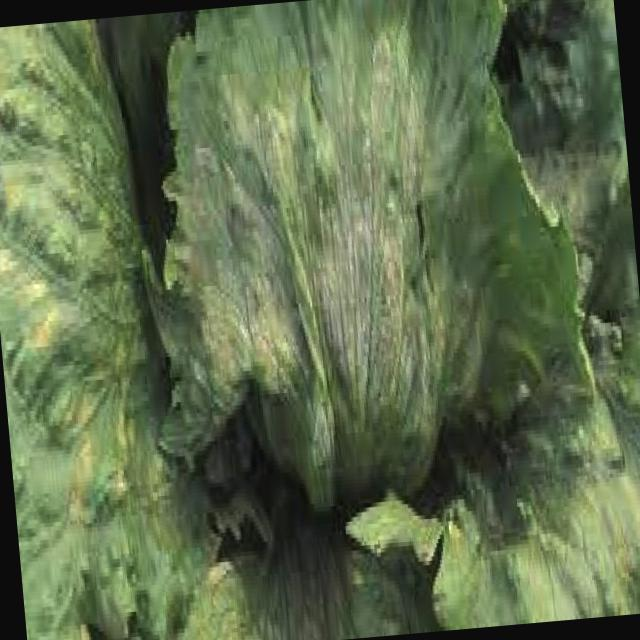Downy_mildew: (190, 20, 468, 369)
